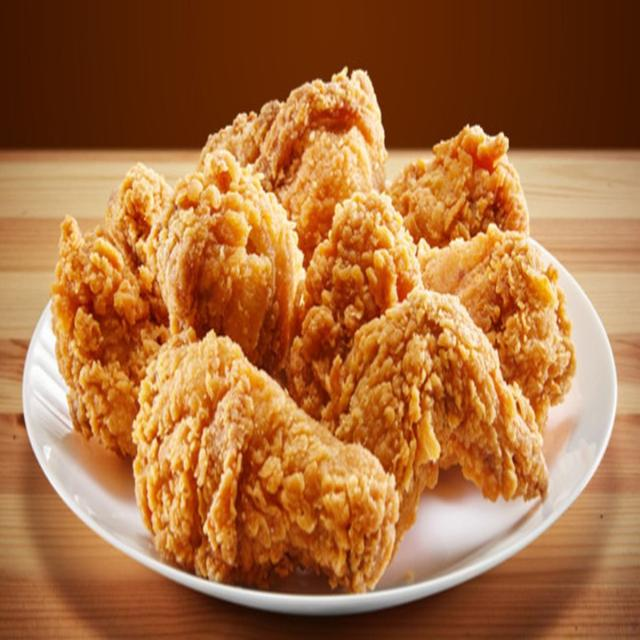Frango: (136, 388, 373, 575), (340, 326, 503, 542), (365, 231, 563, 397), (56, 203, 184, 457), (165, 146, 296, 377), (371, 122, 508, 308), (314, 190, 409, 420), (264, 86, 373, 284)
